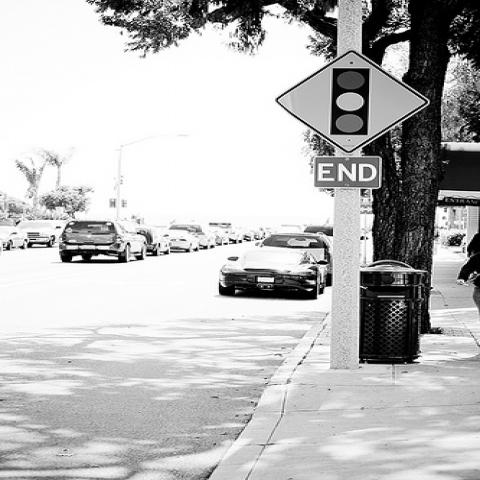car: (218, 248, 330, 300), (252, 232, 332, 274), (18, 219, 75, 248), (166, 222, 216, 249), (129, 228, 173, 256), (160, 229, 200, 252), (0, 226, 31, 251), (301, 224, 333, 243), (211, 226, 229, 246), (224, 230, 246, 243), (238, 229, 255, 241)
truck: (60, 220, 149, 262)
